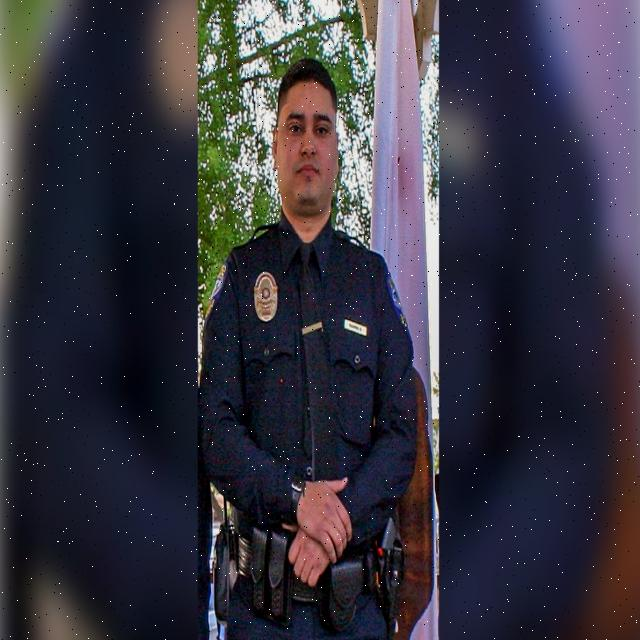police: (212, 26, 417, 640)
